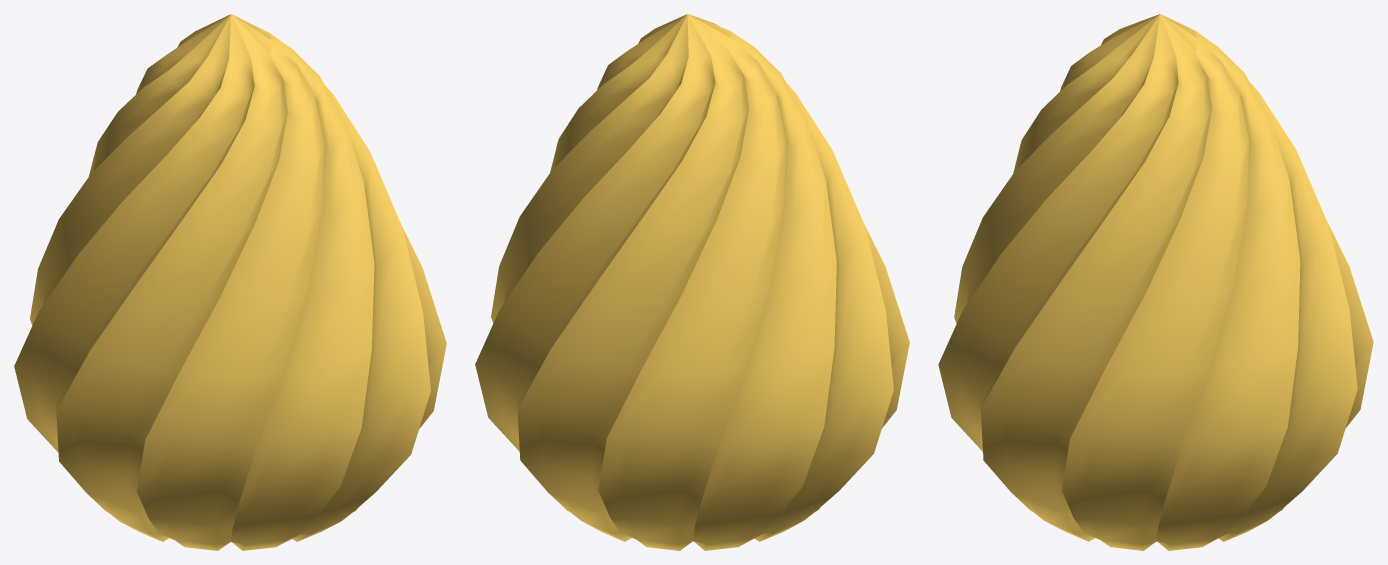
File: Ice Cream Spiral A Yellow.fbx
3 renders of one model, left to right at view 1: azimuth 30°, elevation 25°; view 2: azimuth 150°, elevation 25°; view 3: azimuth 270°, elevation 25°, orthographic.
Parts seen in each view (by area): view 1: Ice Cream Spiral A Yellow; view 2: Ice Cream Spiral A Yellow; view 3: Ice Cream Spiral A Yellow.
Part boxes in pixels (x1,y1,x2,y2): Ice Cream Spiral A Yellow: [14, 14, 446, 550]; Ice Cream Spiral A Yellow: [475, 14, 909, 550]; Ice Cream Spiral A Yellow: [938, 14, 1373, 550].
Size of the model in its own units: 0.4046 by 0.503 by 0.4046.
